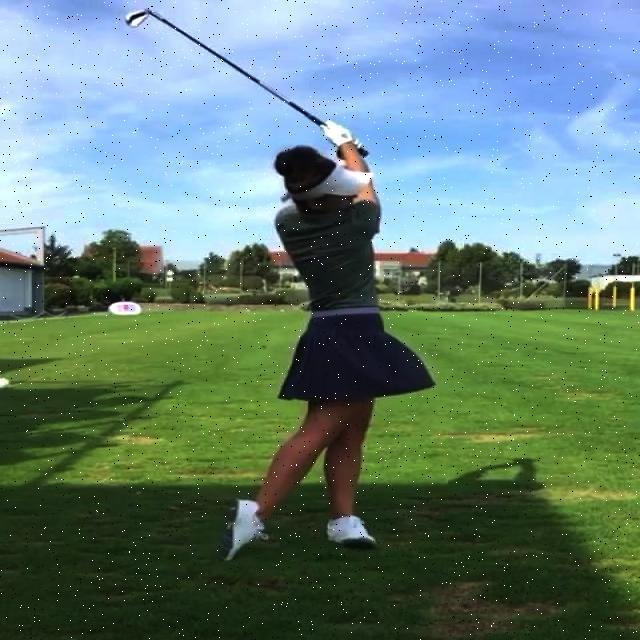ClubHead: (125, 8, 153, 29)
